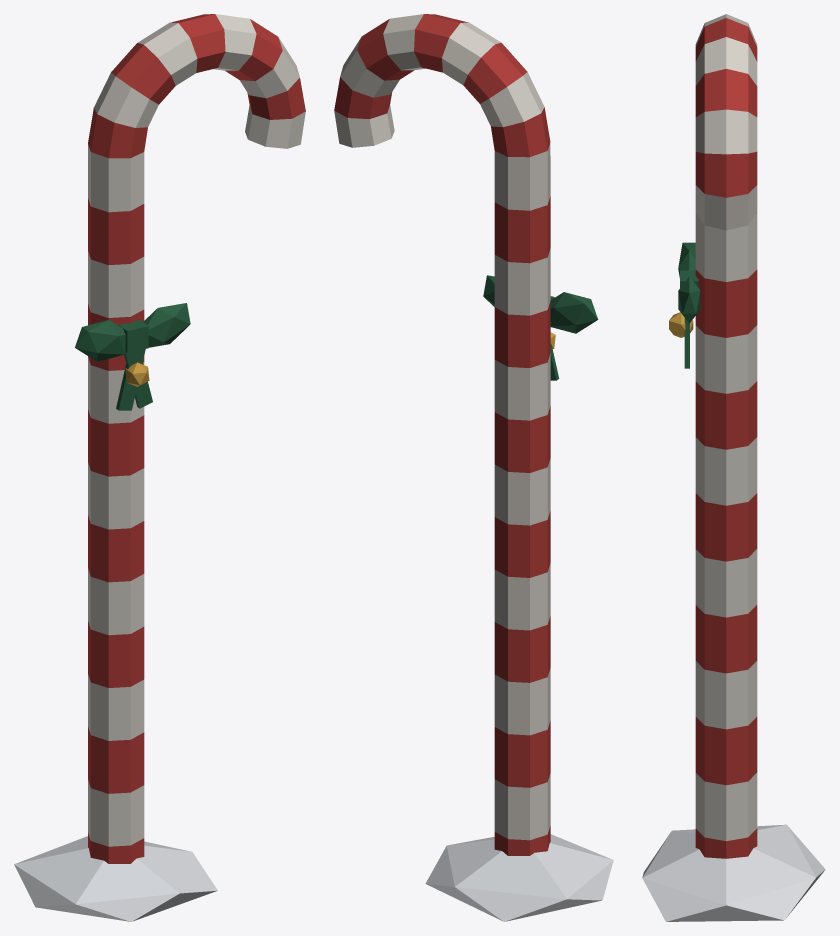
The model's file is candy-cane-post.glb.
3 renders of one model, left to right at view 1: azimuth 30°, elevation 25°; view 2: azimuth 150°, elevation 25°; view 3: azimuth 270°, elevation 25°, orthographic. The views are drawn at different scales.
Visible parts, largest first — view 1: candy-cane-post; view 2: candy-cane-post; view 3: candy-cane-post.
Boxes of the visible parts, left/top/right/bottom form: candy-cane-post: left=14, top=14, right=305, bottom=921; candy-cane-post: left=334, top=14, right=613, bottom=921; candy-cane-post: left=642, top=14, right=825, bottom=921.
Bounding box in the file's own units: 0.7945 × 2.41 × 0.4463.
